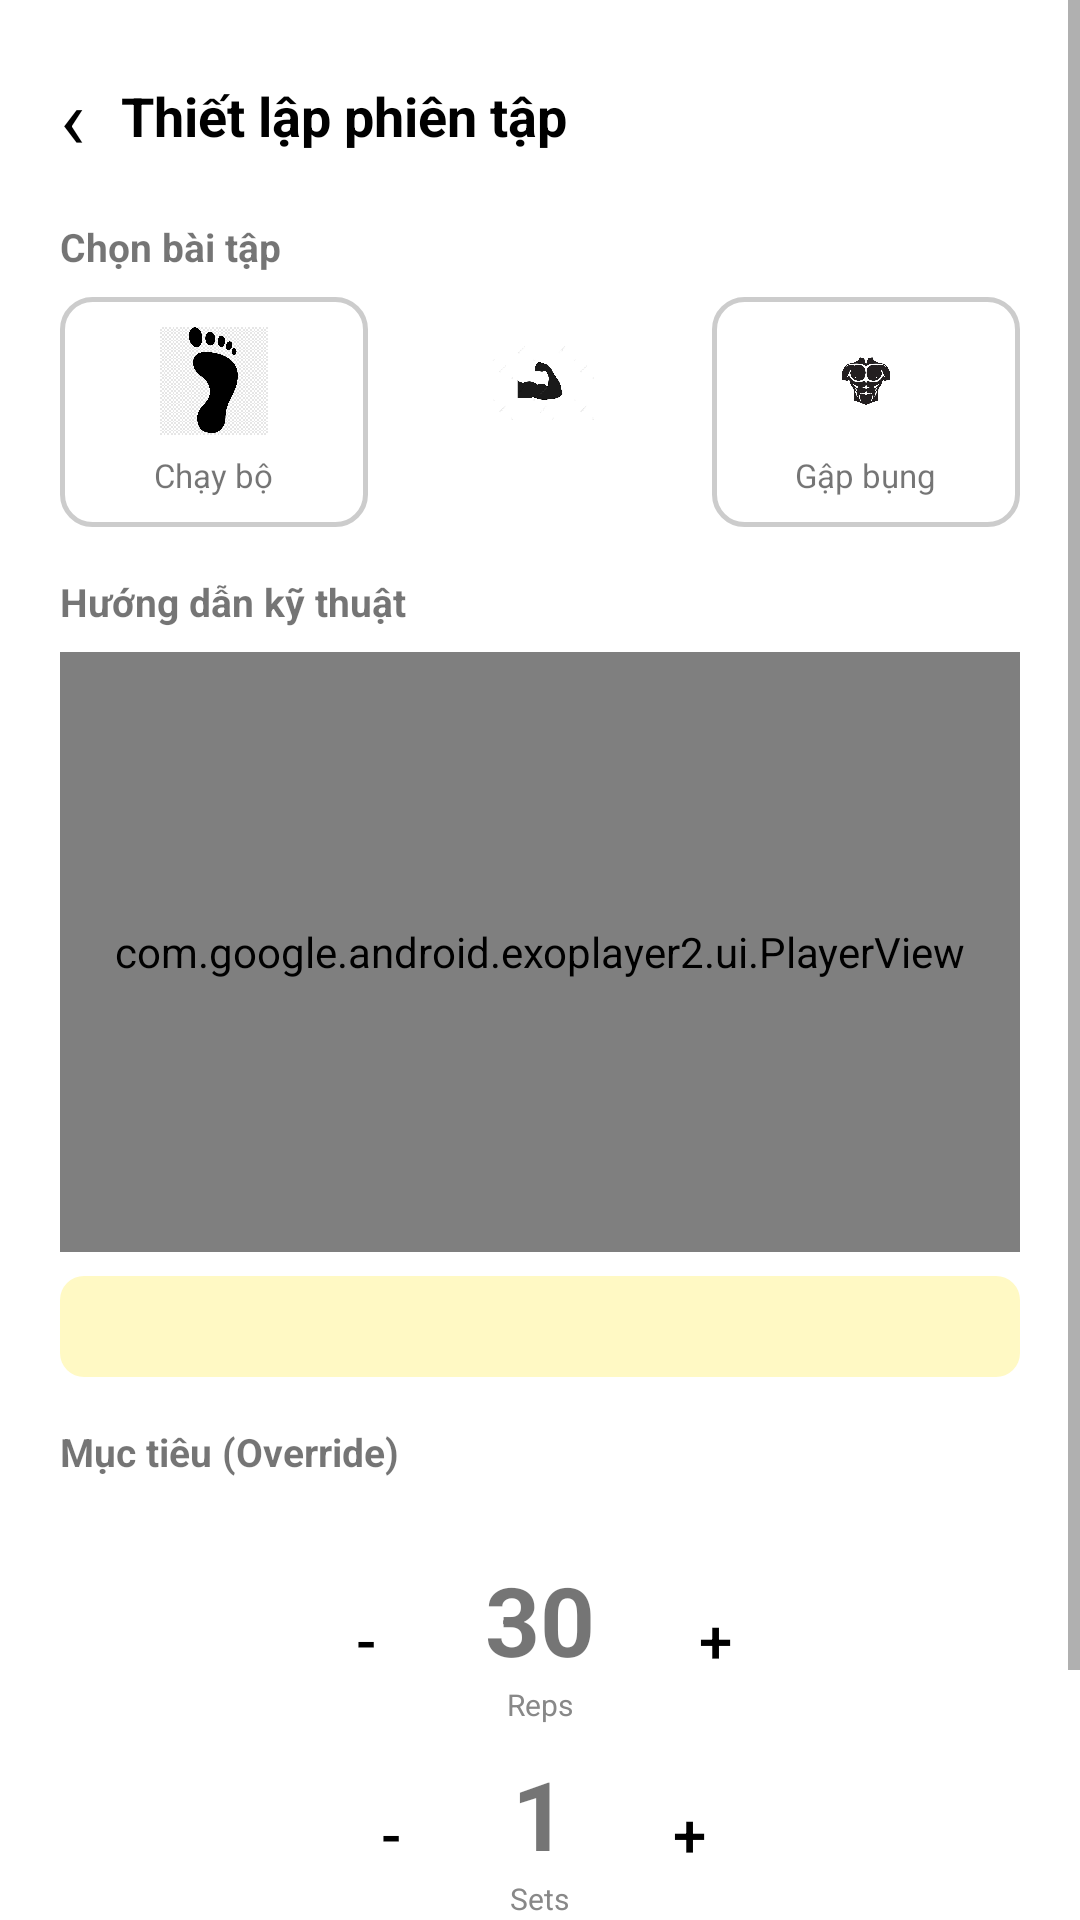

Screen size 1080×1920. Icon name, then its center in pixels as point (x, y):
pushup: point (539, 381)
situp: point (866, 381)
